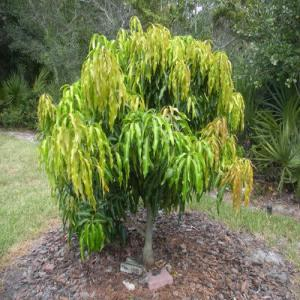Tree: (36, 12, 255, 262)
